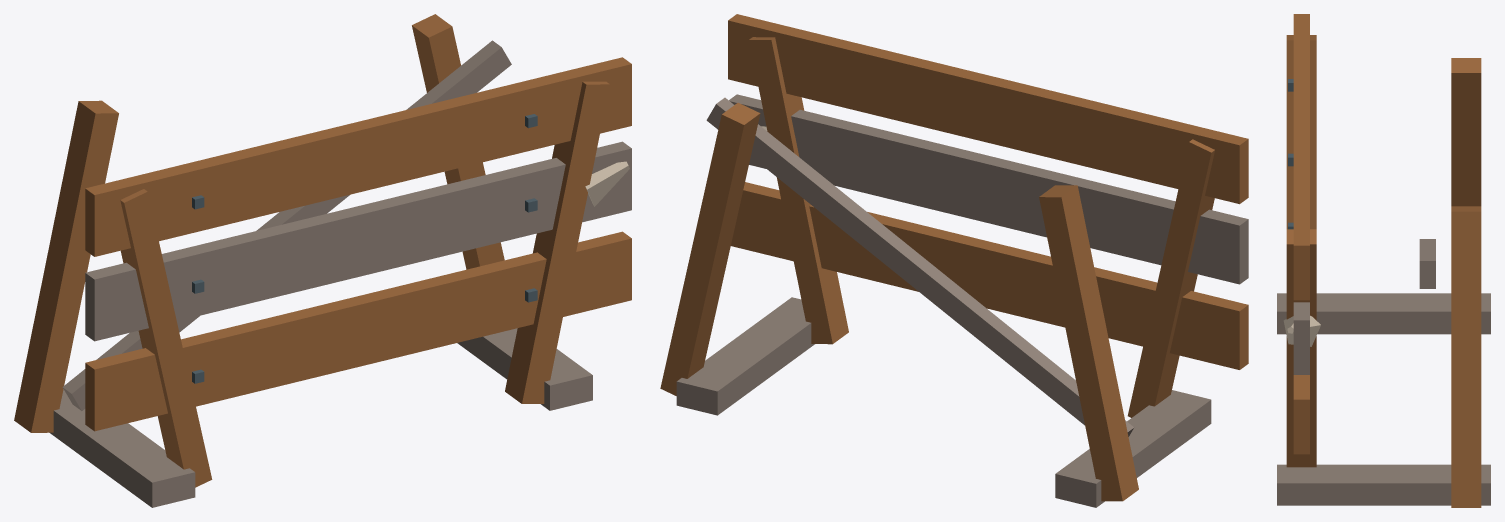
The model's file is barricade.glb.
3 renders of one model, left to right at view 1: azimuth 30°, elevation 25°; view 2: azimuth 150°, elevation 25°; view 3: azimuth 270°, elevation 25°, orthographic. The views are drawn at different scales.
Visible parts, largest first — view 1: Board_2.002, Board_0.002, Board_1.002, Leg_B_0, Leg_A_1, Leg_A_0, Foot_0.001, Cross_Brace, Leg_B_1, Foot_1.001, Board_Splinter; view 2: Board_2.002, Board_1.002, Board_0.002, Cross_Brace, Leg_B_0, Leg_B_1, Leg_A_0, Leg_A_1, Foot_1.001, Foot_0.001; view 3: Leg_B_1, Foot_1.001, Foot_0.001, Board_2.002, Leg_B_0, Leg_A_1, Leg_A_0, Board_0.002, Board_1.002, Cross_Brace, Board_Splinter.
Part boxes in pixels (x1=…): Board_2.002: x1=85, y1=57, x2=631, y2=256; Board_0.002: x1=85, y1=231, x2=631, y2=431; Board_1.002: x1=85, y1=141, x2=631, y2=341; Leg_B_0: x1=14, y1=100, x2=118, y2=432; Leg_A_1: x1=505, y1=81, x2=609, y2=403; Leg_A_0: x1=120, y1=189, x2=212, y2=487; Foot_0.001: x1=49, y1=389, x2=195, y2=507; Cross_Brace: x1=62, y1=40, x2=511, y2=410; Leg_B_1: x1=412, y1=14, x2=504, y2=269; Foot_1.001: x1=457, y1=328, x2=592, y2=410; Board_Splinter: x1=585, y1=161, x2=629, y2=206; Board_2.002: x1=728, y1=14, x2=1248, y2=204; Board_1.002: x1=729, y1=94, x2=1248, y2=284; Board_0.002: x1=731, y1=182, x2=1248, y2=369; Cross_Brace: x1=706, y1=97, x2=1134, y2=436; Leg_B_0: x1=1039, y1=185, x2=1138, y2=501; Leg_B_1: x1=660, y1=102, x2=760, y2=395; Leg_A_0: x1=1127, y1=139, x2=1214, y2=417; Leg_A_1: x1=749, y1=37, x2=848, y2=344; Foot_1.001: x1=676, y1=297, x2=814, y2=415; Foot_0.001: x1=1055, y1=390, x2=1211, y2=507; Leg_B_1: x1=1451, y1=206, x2=1481, y2=507; Foot_1.001: x1=1277, y1=464, x2=1490, y2=505; Foot_0.001: x1=1277, y1=293, x2=1490, y2=334; Board_2.002: x1=1293, y1=14, x2=1309, y2=300; Leg_B_0: x1=1451, y1=58, x2=1481, y2=206; Leg_A_1: x1=1286, y1=229, x2=1316, y2=467; Leg_A_0: x1=1286, y1=35, x2=1316, y2=229; Board_0.002: x1=1293, y1=375, x2=1309, y2=454; Board_1.002: x1=1293, y1=302, x2=1309, y2=374; Cross_Brace: x1=1419, y1=239, x2=1435, y2=288; Board_Splinter: x1=1283, y1=315, x2=1320, y2=346.
Size of the model in its own units: 2 by 1.13 by 0.78.
